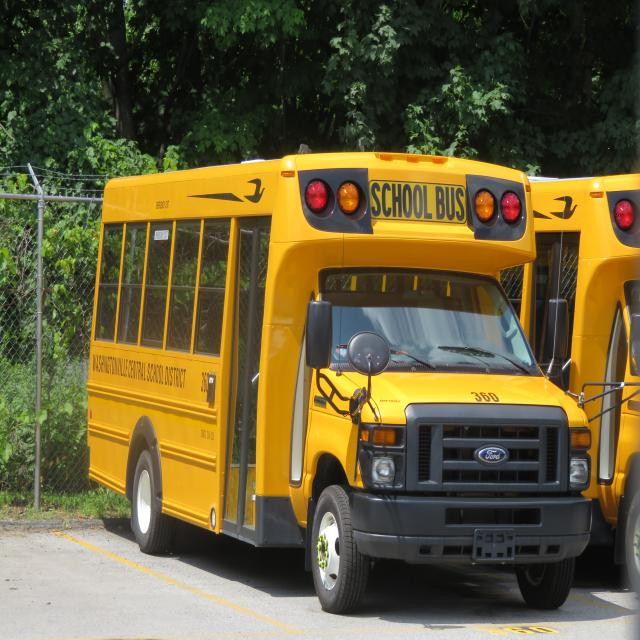Bus: (89, 152, 594, 608), (503, 174, 639, 584)
